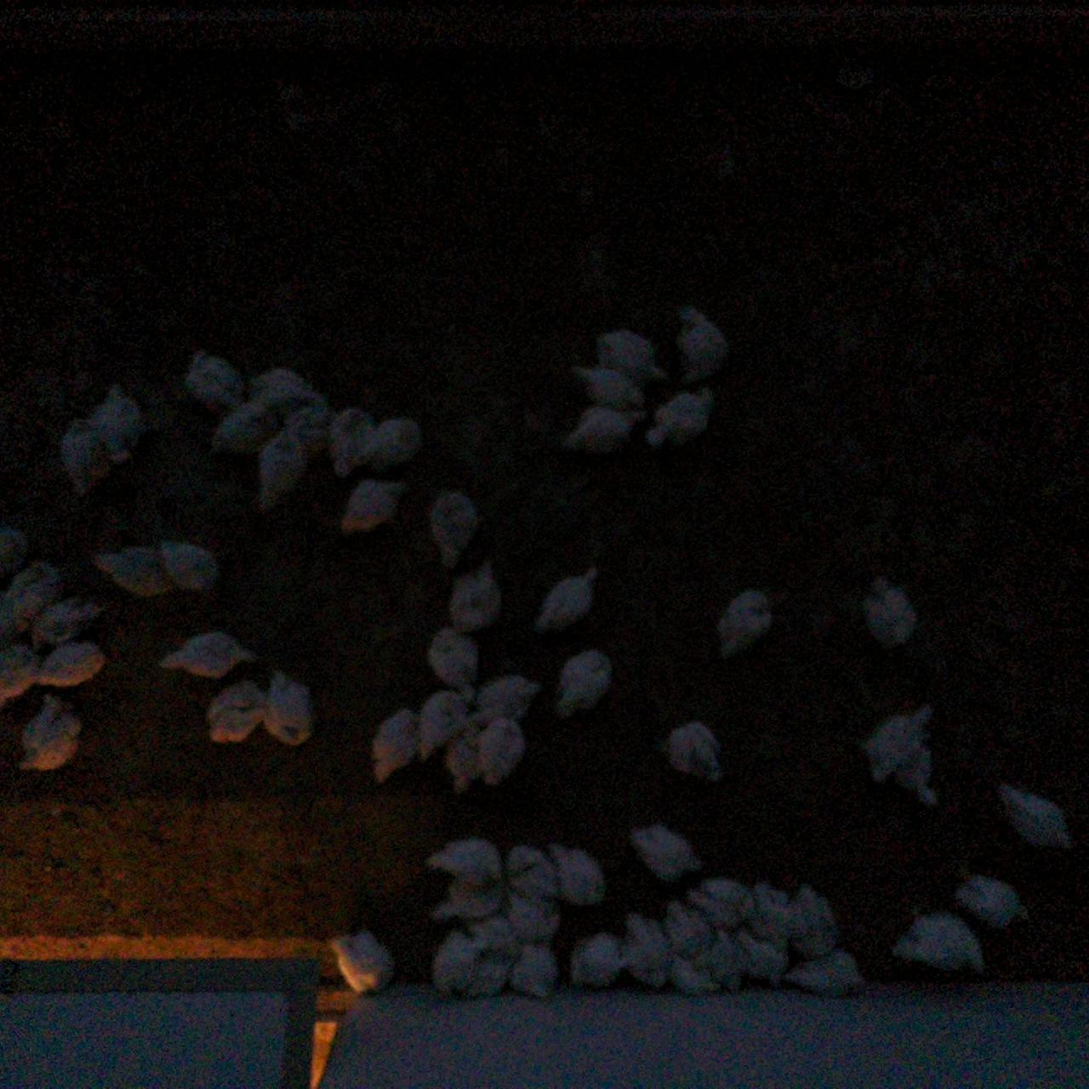chicken: (889, 903, 991, 980), (856, 696, 939, 783), (989, 774, 1072, 857), (949, 857, 1036, 934), (16, 688, 87, 779), (443, 552, 513, 638), (530, 560, 605, 640), (154, 624, 259, 681), (668, 300, 736, 387), (711, 584, 780, 669), (642, 385, 724, 455), (180, 338, 254, 415), (325, 922, 396, 1002), (423, 478, 484, 570), (623, 814, 702, 885), (361, 702, 426, 788), (89, 538, 175, 603), (858, 568, 924, 652), (423, 620, 486, 708), (550, 644, 617, 726), (336, 472, 418, 539), (248, 436, 308, 526), (90, 376, 150, 465), (555, 404, 648, 461), (590, 324, 671, 388), (0, 560, 68, 636), (784, 878, 846, 959), (262, 665, 318, 752), (61, 411, 117, 496), (202, 677, 267, 750), (200, 403, 279, 463), (545, 839, 611, 910), (156, 531, 228, 596), (409, 681, 472, 754), (28, 593, 110, 649), (475, 711, 533, 790), (620, 909, 677, 989), (658, 715, 726, 781), (323, 403, 380, 481), (783, 951, 871, 1001), (682, 873, 759, 930), (243, 365, 332, 414), (466, 673, 542, 730), (35, 635, 112, 690), (427, 875, 508, 927), (565, 358, 646, 409), (658, 894, 715, 962), (441, 719, 490, 798), (564, 926, 628, 986), (364, 412, 428, 471), (278, 393, 337, 456), (500, 841, 563, 899), (426, 931, 475, 1003), (463, 951, 527, 1004), (506, 895, 568, 949), (897, 744, 944, 815), (704, 927, 754, 993), (0, 633, 46, 703), (512, 942, 565, 1001), (432, 834, 502, 878), (740, 933, 793, 990), (744, 879, 795, 938), (665, 954, 722, 999), (466, 907, 519, 954), (0, 512, 32, 582)
